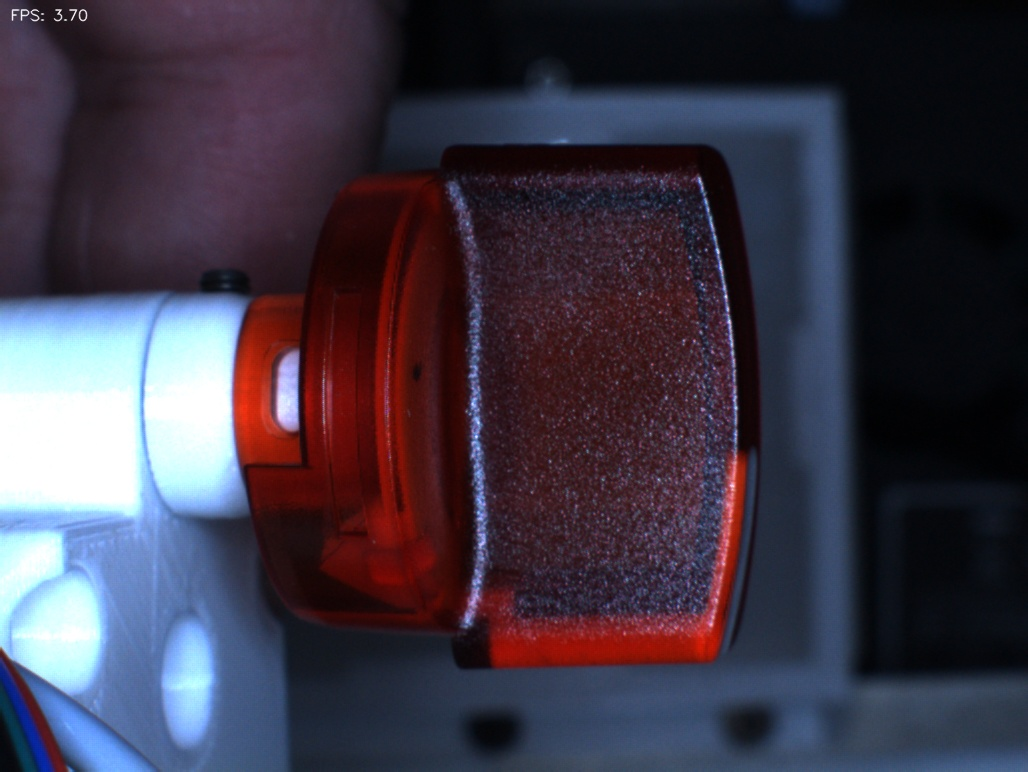PointNoir: (379, 323, 454, 418)
